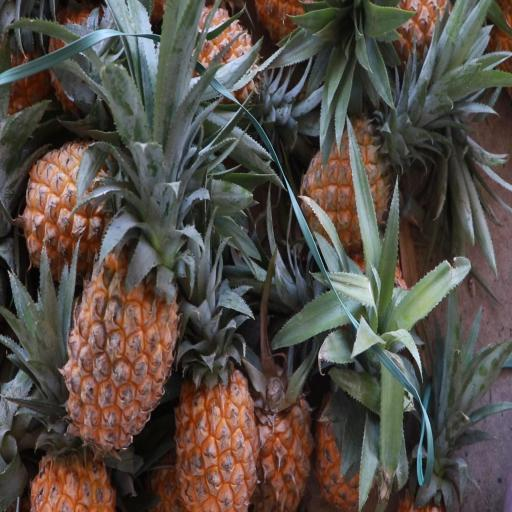Pineapple - v8 v1: (62, 214, 184, 456), (19, 132, 158, 292), (294, 106, 394, 260), (173, 357, 262, 512), (32, 366, 120, 512), (261, 359, 315, 512)
